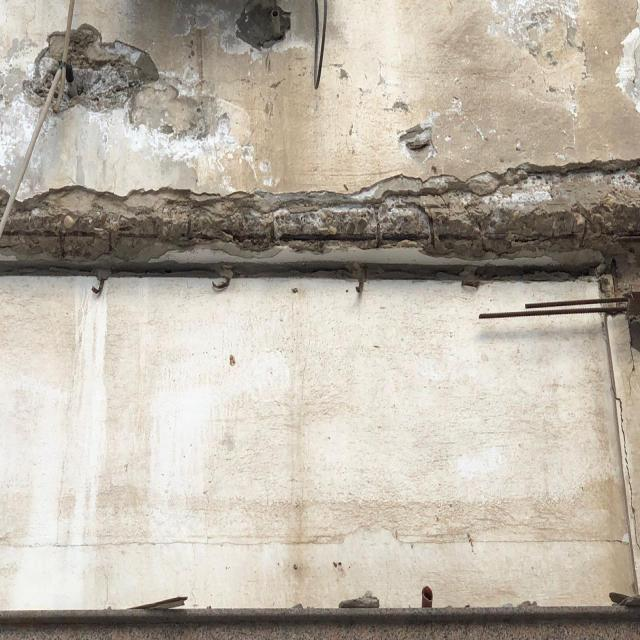Rebar: (5, 156, 640, 300)
concrete spalling: (21, 13, 219, 136), (232, 0, 293, 50), (393, 118, 441, 165)
